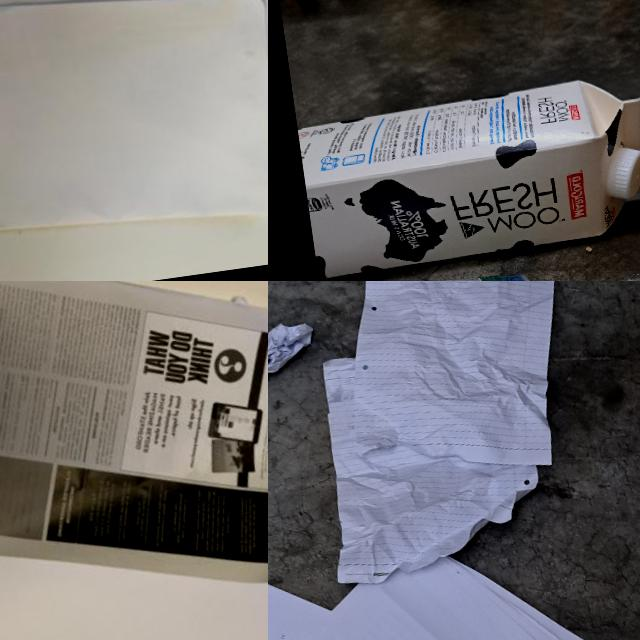caixinha: (296, 66, 640, 281)
papel: (0, 281, 268, 633), (292, 281, 600, 587), (0, 0, 268, 278), (268, 527, 640, 640), (268, 307, 318, 386)
